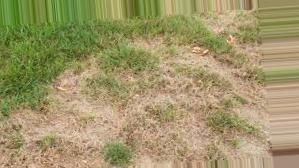patch: (165, 46, 256, 158), (63, 72, 150, 161)
